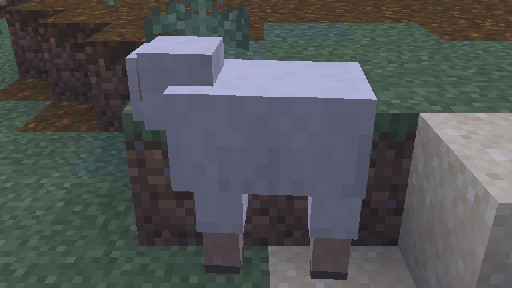sheep: (124, 35, 377, 280)
